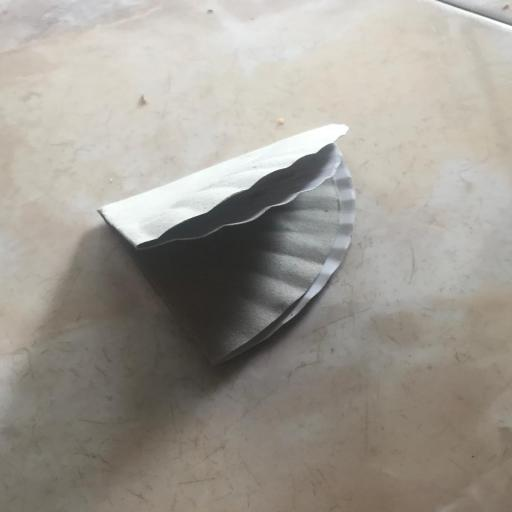waste: (90, 121, 382, 365)
